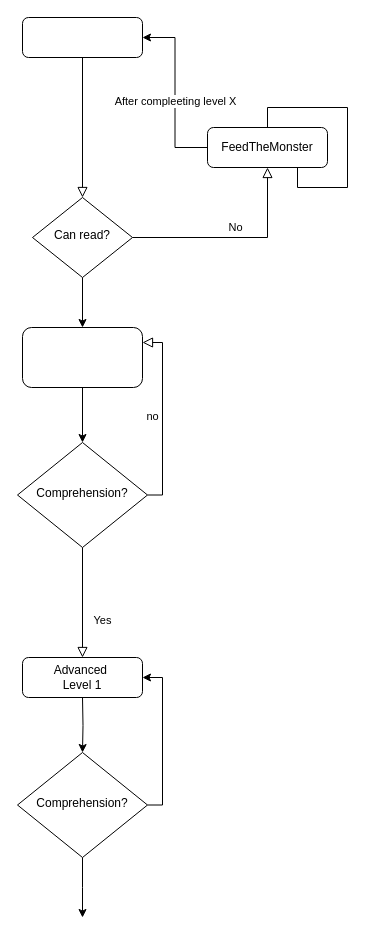
Image size: 373x943. Some labels were removed from this diagram. The shapes that lost their labels are listed below. From the top down, each one's box as (x1, y1, x2, y2) in pixels, then its label:
(22, 16, 142, 58): Intro Assessment
(22, 326, 142, 388): Read and play Simple Level 1
